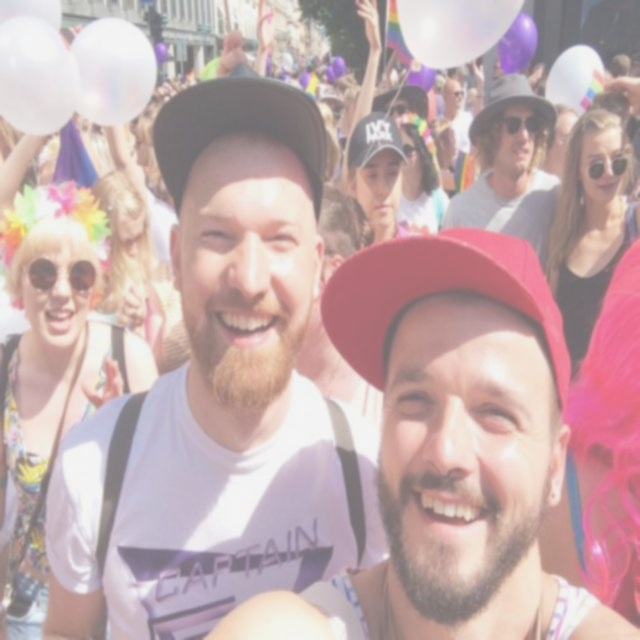pessoa: (38, 60, 388, 639), (201, 221, 639, 639), (0, 174, 163, 639), (308, 37, 488, 268), (0, 44, 204, 212), (538, 105, 640, 390), (439, 69, 564, 277), (98, 211, 191, 372), (203, 0, 310, 92), (488, 51, 640, 108), (610, 108, 640, 204), (543, 108, 579, 178), (354, 0, 381, 39)
